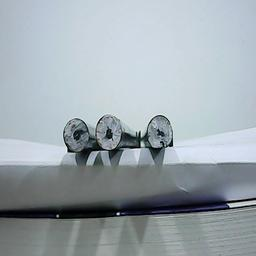pen: (94, 112, 123, 151), (63, 117, 90, 153), (146, 114, 173, 150)
